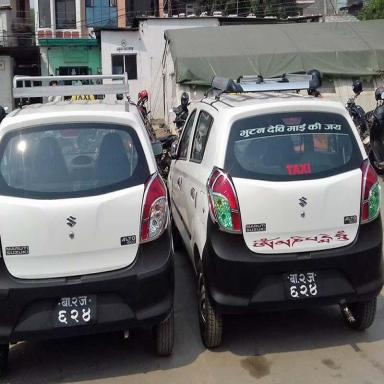License_Plate: (48, 288, 102, 332), (280, 264, 322, 302)
